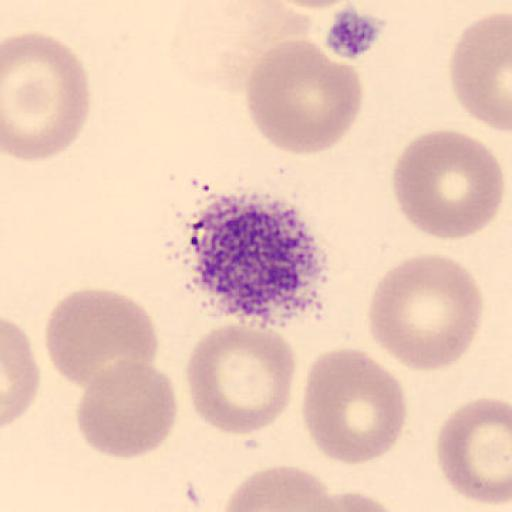Platelet: (183, 188, 332, 330), (323, 3, 388, 62)
RBC: (366, 251, 484, 372), (244, 39, 365, 156), (301, 345, 409, 467), (184, 322, 298, 436), (391, 128, 505, 240), (44, 286, 161, 391), (0, 30, 90, 163), (74, 359, 178, 460), (218, 465, 406, 512), (435, 397, 512, 507), (449, 11, 512, 133), (218, 464, 336, 512), (2, 317, 42, 431), (266, 482, 412, 512), (300, 491, 413, 512), (268, 0, 365, 10)
